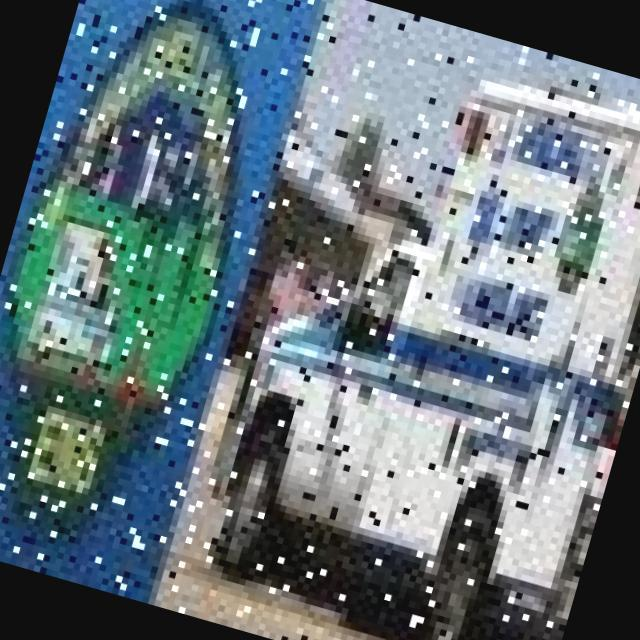emergency-vehicle: (165, 17, 640, 640)
